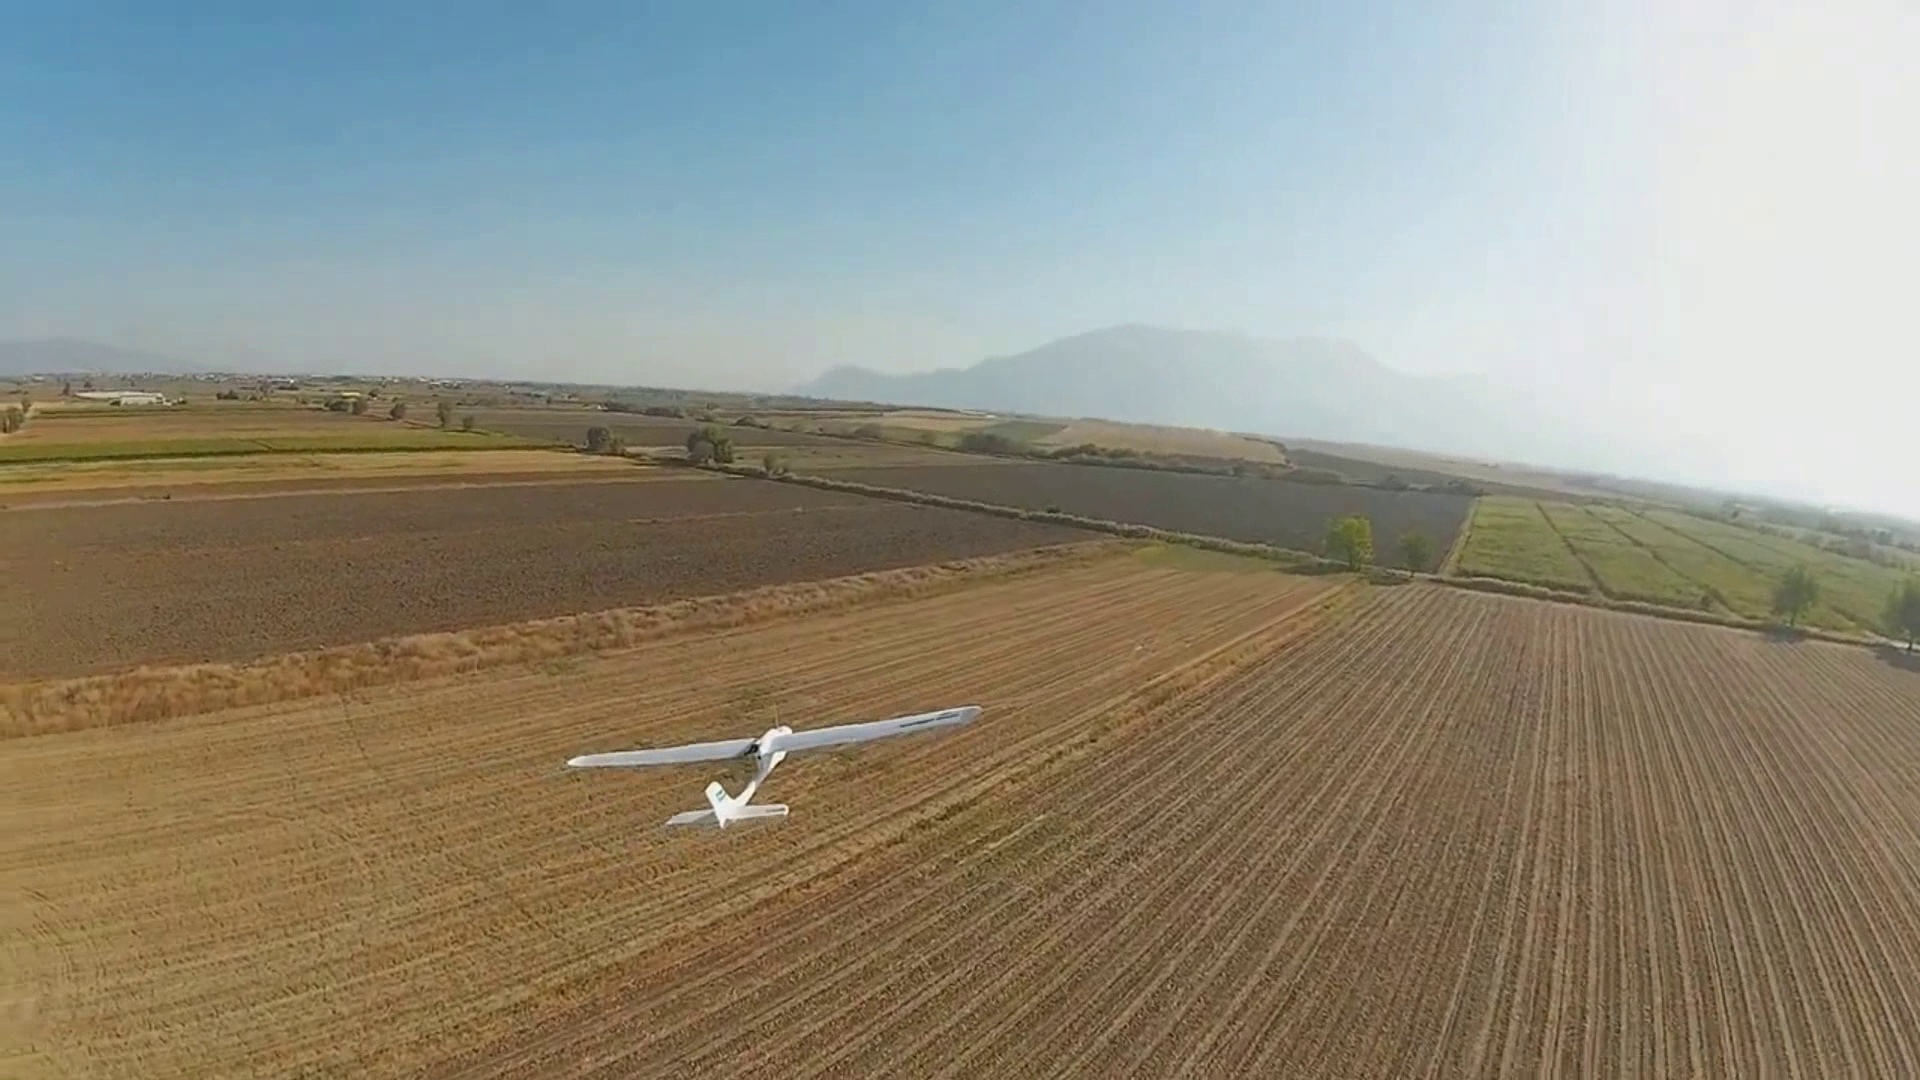airplane: (561, 704, 983, 835)
